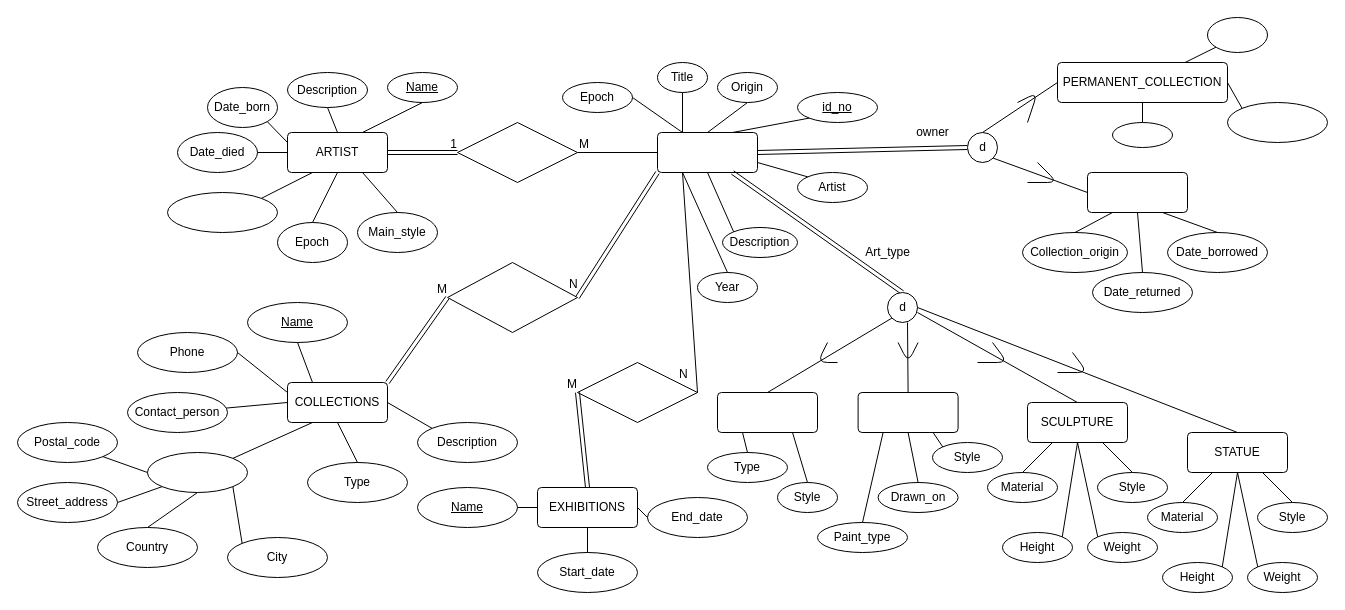
Some shapes in this 1345 by 610 pixel diagram are drawn without their labels. The shapes that lost their labels are listed below. From the top down, each one's centre as x and y in pixels, then its label:
[1237,34]: Cost
[1142,135]: Status
[1277,122]: Date_acquired
[517,152]: CREATOR
[707,152]: ART_OBJECT
[222,212]: Country_of_origin
[1137,192]: BORROWED
[512,297]: IN_COLLECTION
[637,392]: ON_DISPLAY
[767,412]: OTHER
[907,412]: PAINTING
[197,472]: Address
